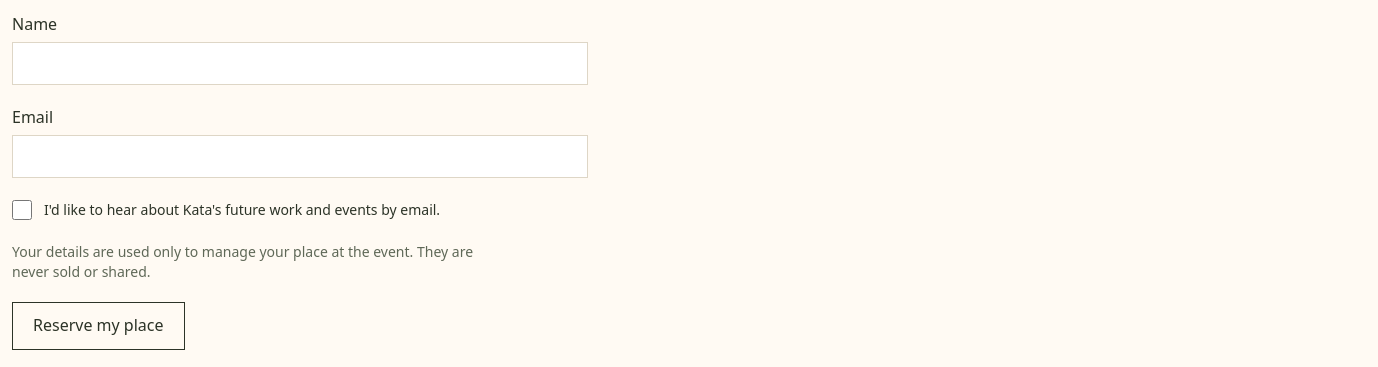
it: the waiting list › still confirms and offers the calendar when a place was reserved
Type "Guest" into the field labelled "Name" at (300, 63), box [12,42,588,85]
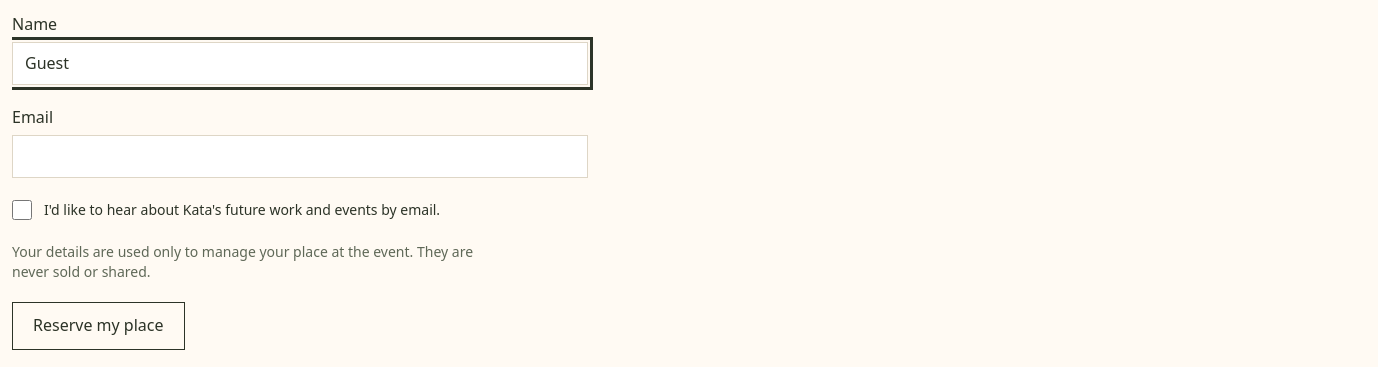
Type "guest@example.com" into the field labelled "Email" at (300, 157), box [12,135,588,178]
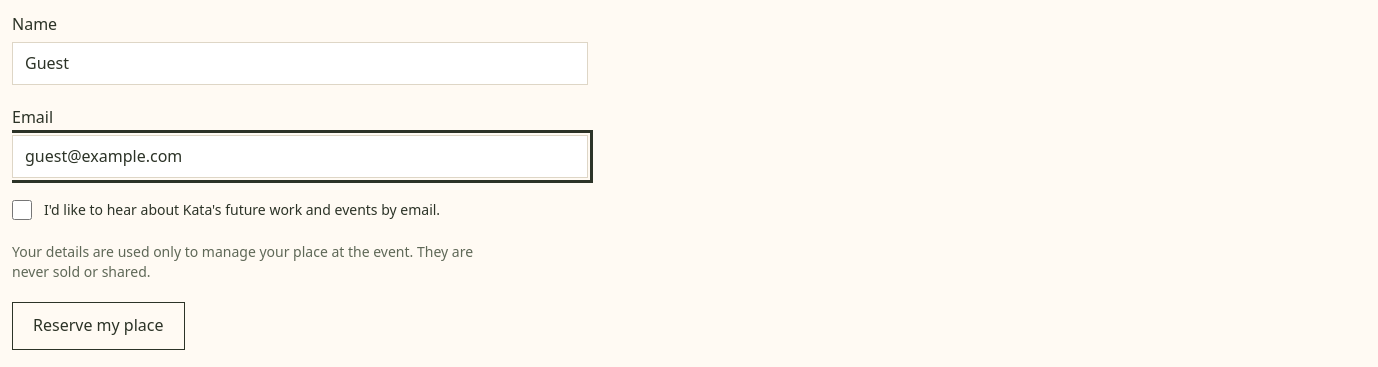
Click the button "Reserve my place" at (98, 326), box [12,302,184,350]
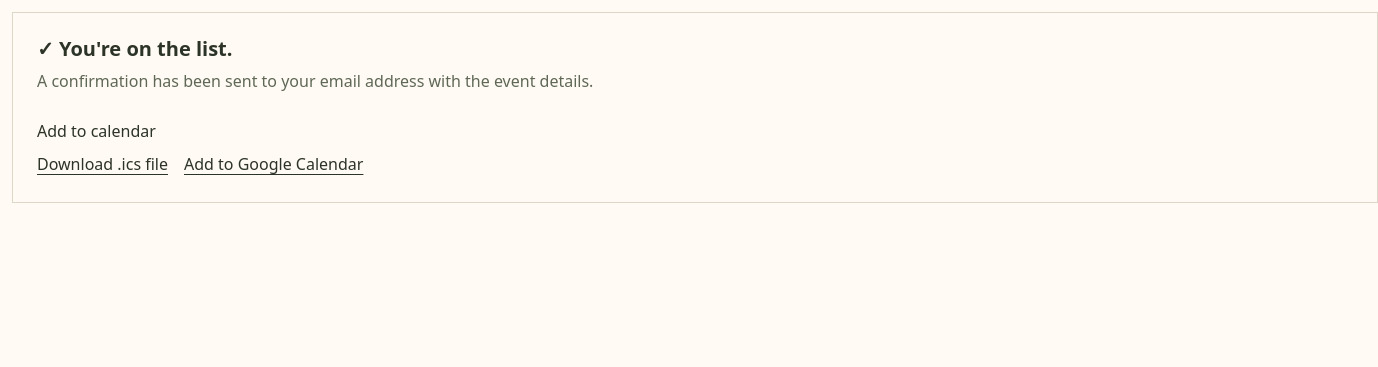
Result: the heading "Add to calendar" is shown at [37,120,156,142]
